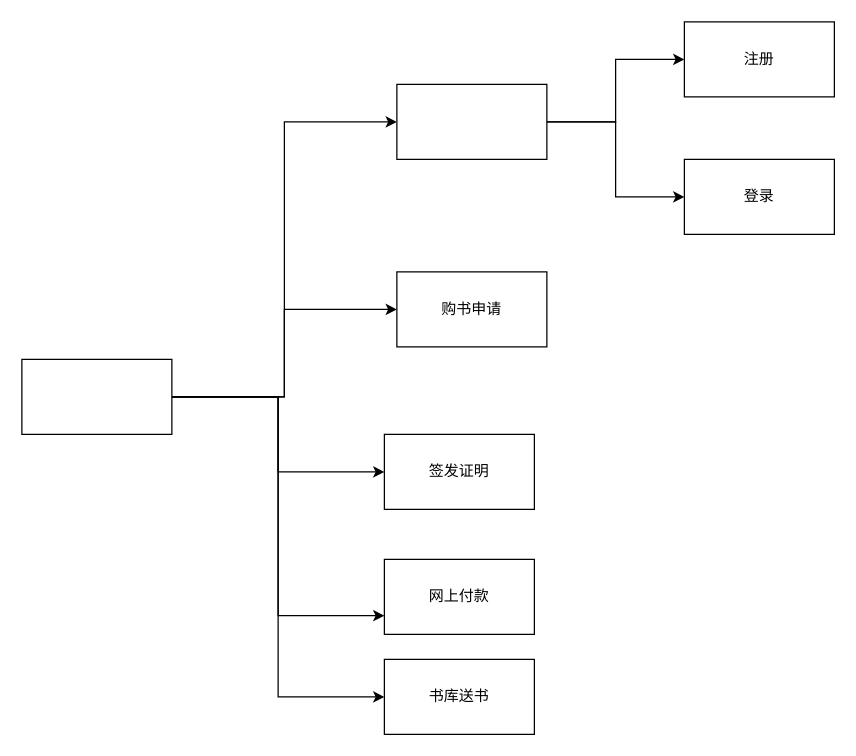
The diagram is 856 pixels wide and 756 high, and some of its shapes have lost their labels. The shapes that lost their labels are listed below. From the top down, each one's centre as x and y in pixels, then its label:
pixel 471 121: 登录平台
pixel 96 396: 教材销售系统
